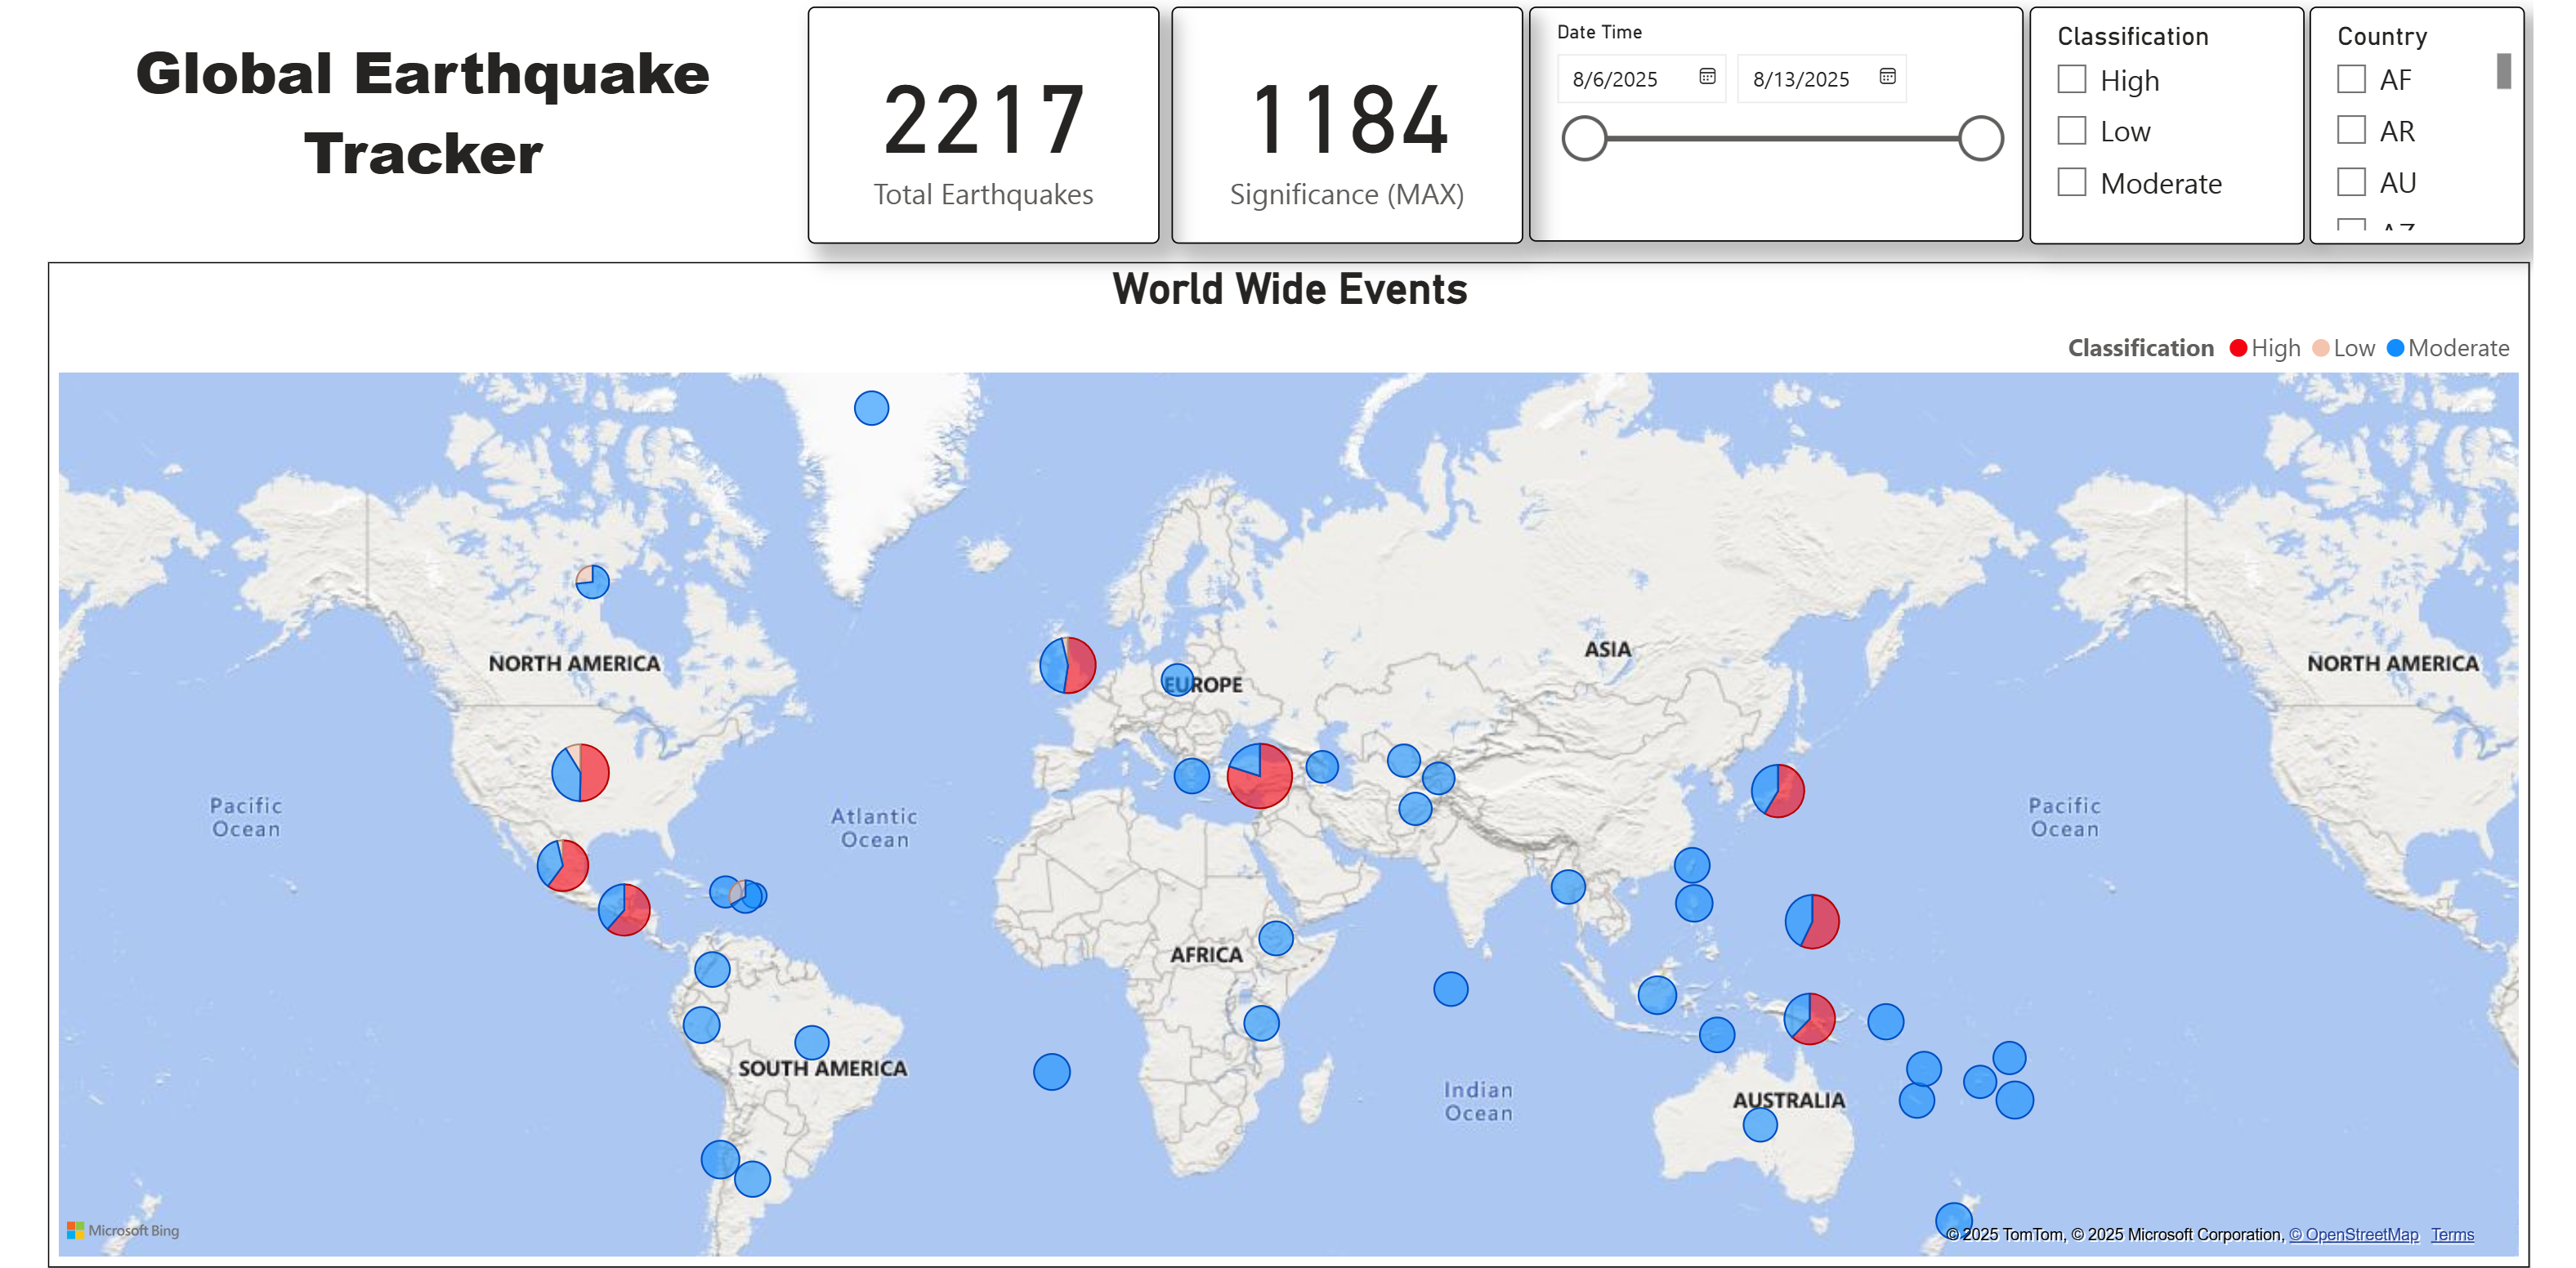

Layout of this report page (visuals, bound fields, positions):
{"tool":"powerbi","page":{"name":"World Wide Events","canvas":[1400,720],"ordinal":0},"visuals":[{"type":"map","title":"World Wide Events","fields":{"Category":["earthquake_events_production_data.country_code"],"Size":["Max(earthquake_events_production_data.sig)"],"Series":["earthquake_events_production_data.sig_class"]},"box":[1.3,152.4,1397.4,566.3],"z":0},{"type":"slicer","fields":{"Values":["earthquake_events_production_data.time"]},"box":[835.1,9.2,278.4,132.4],"z":1000},{"type":"slicer","fields":{"Values":["earthquake_events_production_data.sig_class"]},"box":[1117.1,8.7,154.6,133.9],"z":2000},{"type":"card","fields":{"Values":["Max(earthquake_events_production_data.sig)"]},"box":[633.6,8.9,197.9,133.6],"z":3000},{"type":"card","fields":{"Values":["CountNonNull(earthquake_events_production_data.id)"]},"box":[429.3,9.2,197.9,133.6],"z":4000},{"type":"textbox","box":[1.2,0,421.9,142.3],"z":5000},{"type":"slicer","fields":{"Values":["earthquake_events_production_data.country_code"]},"box":[1274.4,9.2,121.4,134],"z":5001}]}

Visuals, with their boxes on the page's 1400x720 design canvas (x1, y1, x2, y2). These are canvas units, not pixel positions in the 2576x1268 screenshot, which may show the page scaled, cropped or inside an application window:
"World Wide Events" map: {"x1": 1, "y1": 152, "x2": 1399, "y2": 719}
slicer - earthquake_events_production_data.time: {"x1": 835, "y1": 9, "x2": 1114, "y2": 142}
slicer - earthquake_events_production_data.sig_class: {"x1": 1117, "y1": 9, "x2": 1272, "y2": 143}
card - Max(earthquake_events_production_data.sig): {"x1": 634, "y1": 9, "x2": 832, "y2": 142}
card - CountNonNull(earthquake_events_production_data.id): {"x1": 429, "y1": 9, "x2": 627, "y2": 143}
textbox: {"x1": 1, "y1": 0, "x2": 423, "y2": 142}
slicer - earthquake_events_production_data.country_code: {"x1": 1274, "y1": 9, "x2": 1396, "y2": 143}
